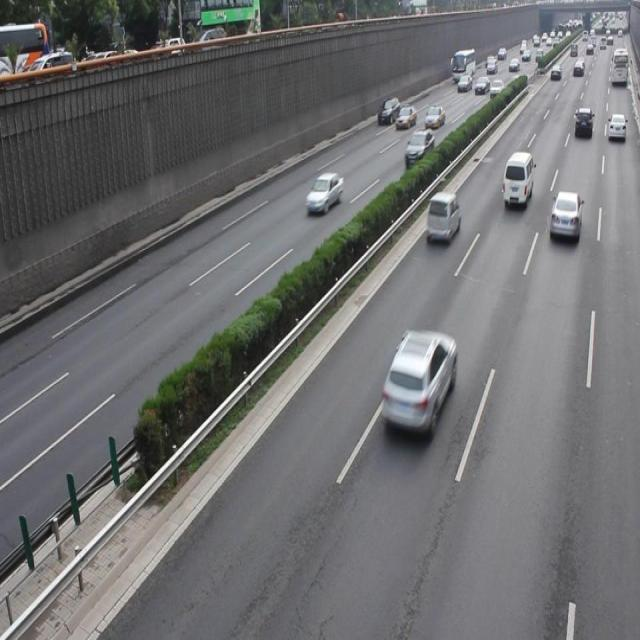car: (379, 327, 455, 433), (548, 189, 581, 238), (426, 192, 458, 242), (306, 171, 342, 213)
truck: (501, 151, 532, 205)
